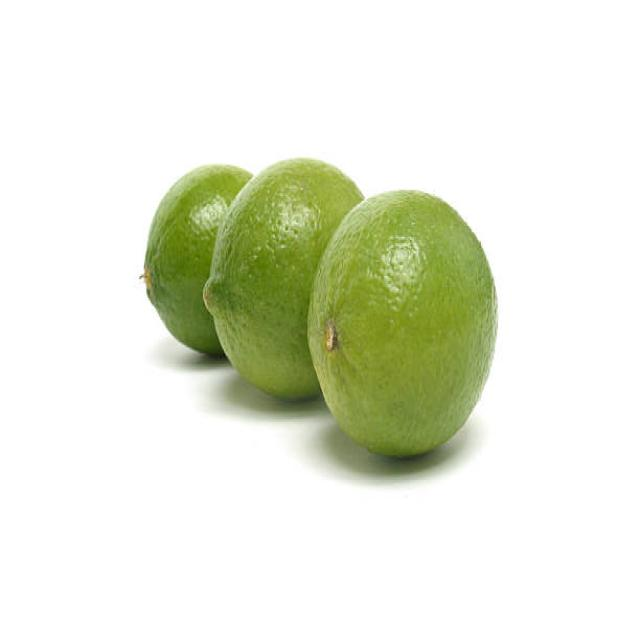Unripe: (306, 188, 499, 461)
